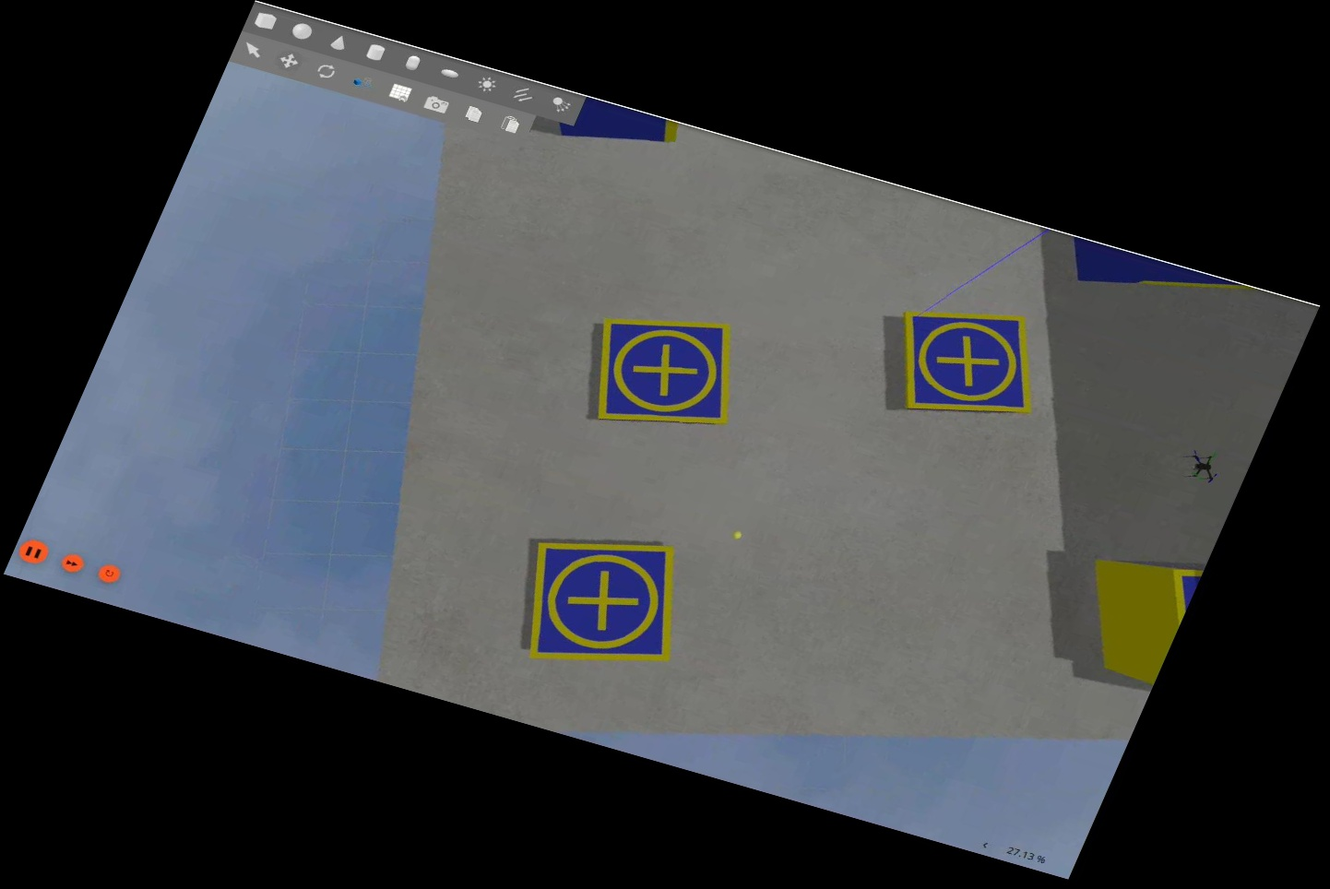small_base: (490, 512, 713, 690), (564, 294, 769, 453), (872, 291, 1066, 439)
